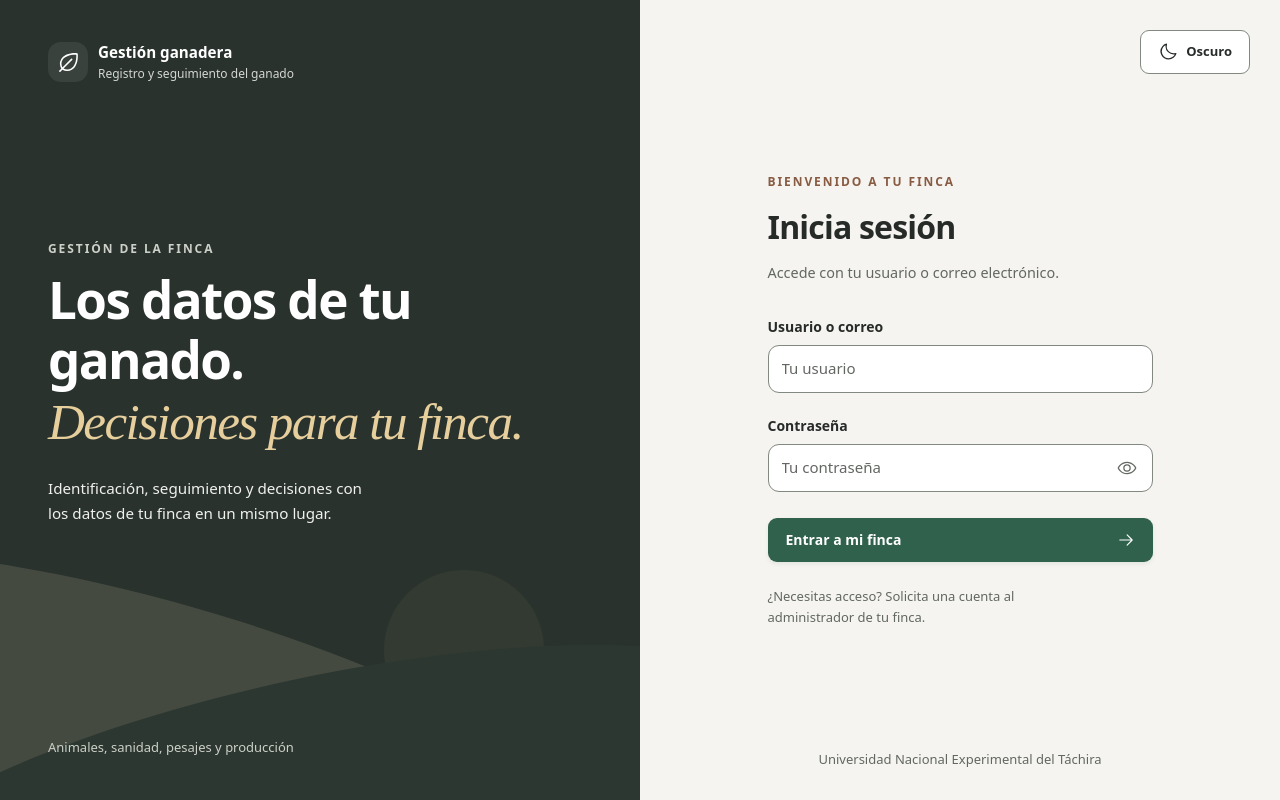
Test case: login interaction › reveals the password without clearing the value
Type "a-private-value" into the password field labelled "Contraseña" at coordinates (960, 468), box [768,444,1152,492]
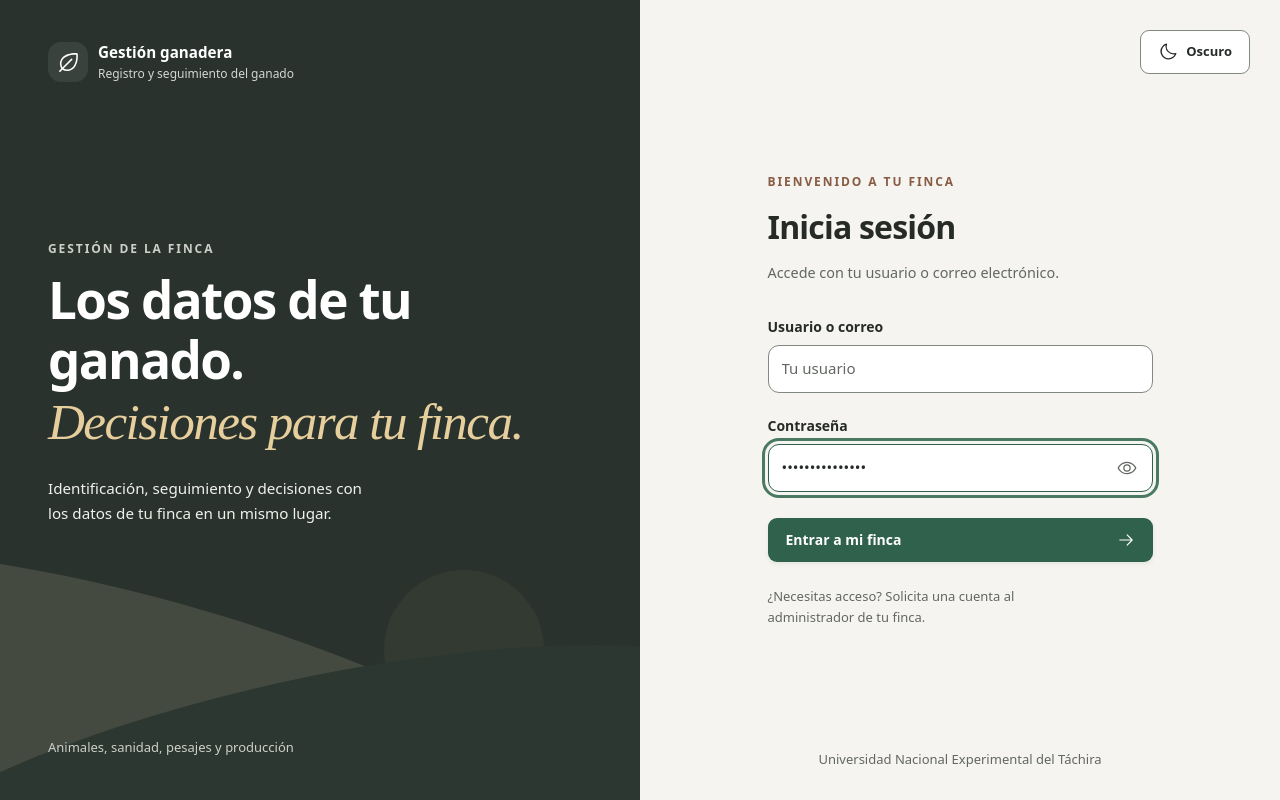
Click the button named "Mostrar contraseña" at coordinates (1126, 468), box [1104,446,1148,490]
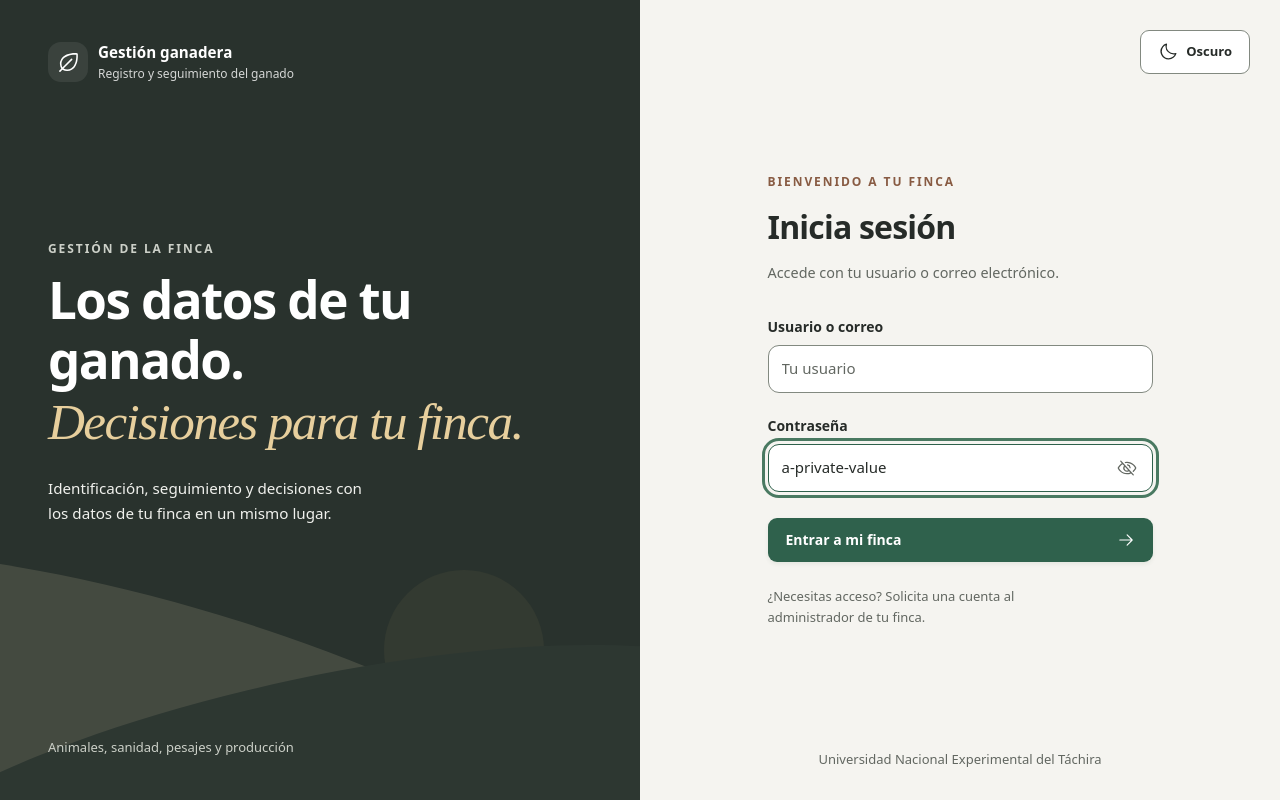
Now the field labelled "Contraseña" shows its text, box [768,444,1152,492]
Click the button named "Ocultar contraseña" at coordinates (1126, 468), box [1104,446,1148,490]
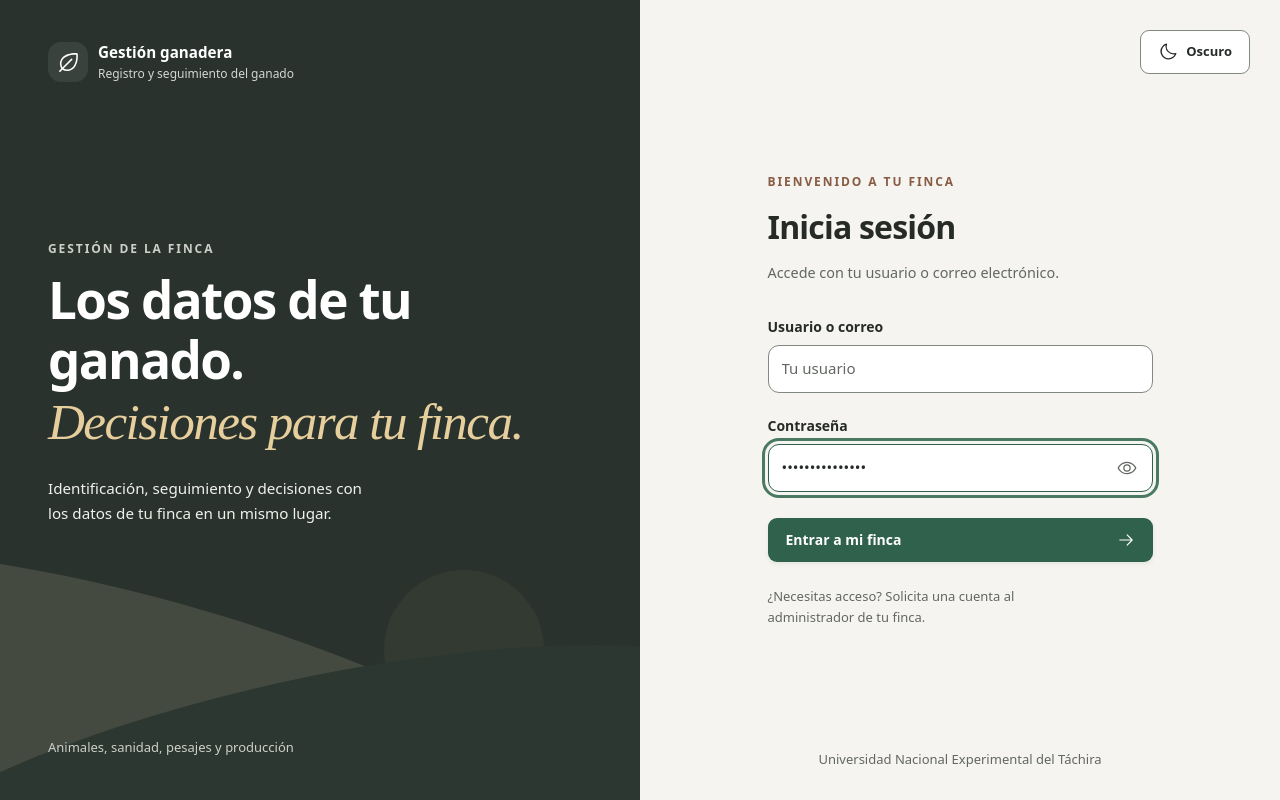
Now the password field labelled "Contraseña" hides its text, box [768,444,1152,492]
